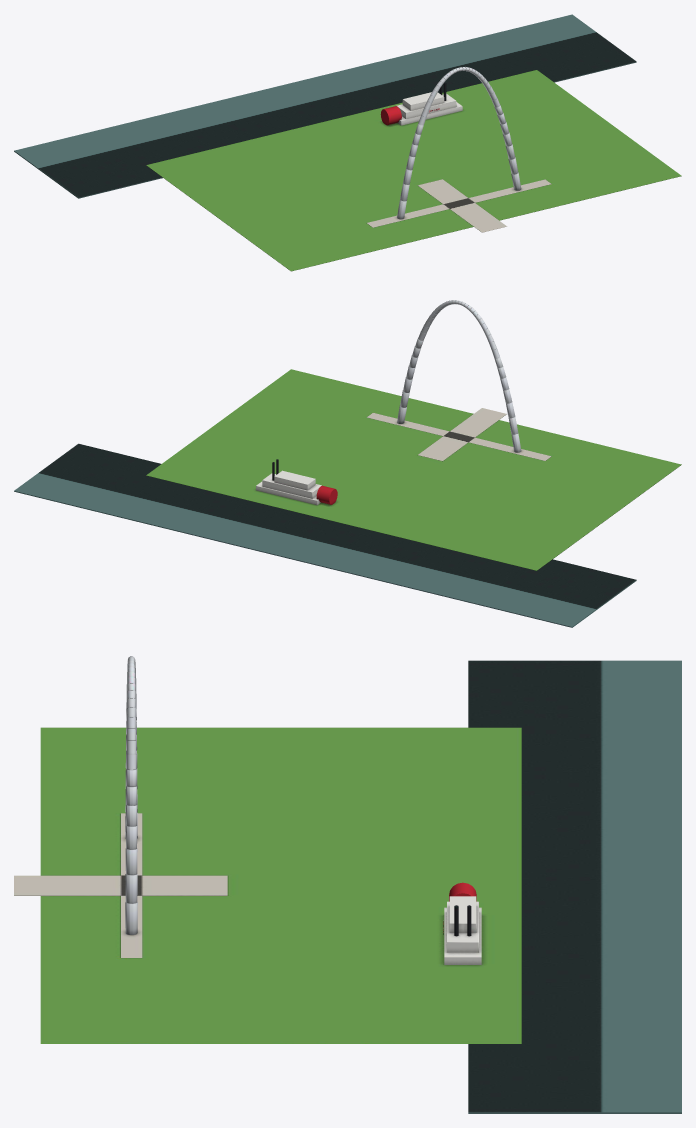
File: arco_gateway.glb
3 views of the same model, one above another, from view 1: azimuth 30°, elevation 25°; view 2: azimuth 150°, elevation 25°; view 3: azimuth 270°, elevation 25° (orthographic). The views are drawn at different scales.
Parts seen in each view (by area): view 1: arco_gateway; view 2: arco_gateway; view 3: arco_gateway.
Part boxes in pixels (bbox=[...]): arco_gateway: bbox=[14, 14, 681, 271]; arco_gateway: bbox=[14, 300, 681, 627]; arco_gateway: bbox=[14, 656, 681, 1113].
Bounding box in the file's own units: 200 × 46.98 × 125.
Materials: 1 (1 with a texture image).
